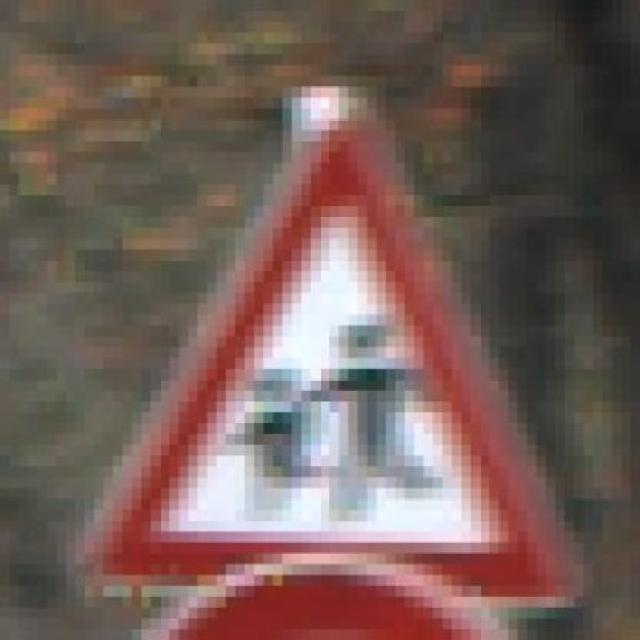Beware of children: (75, 86, 602, 619)
